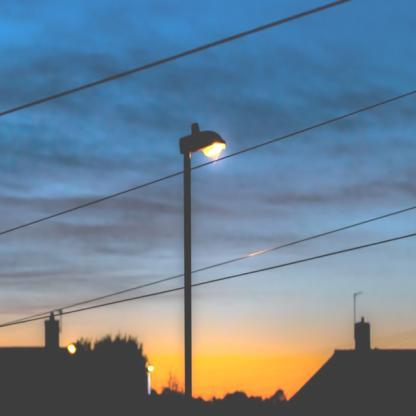light_pole: (179, 121, 228, 416)
